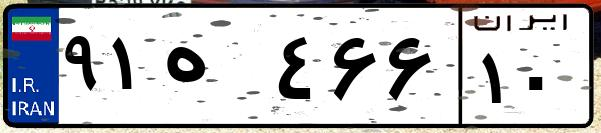0: (525, 38, 570, 115)
1: (475, 38, 525, 113), (110, 28, 158, 98)
4: (270, 28, 330, 110)
6: (385, 28, 445, 110), (330, 28, 385, 110)
9: (57, 26, 110, 100)
ه: (158, 20, 270, 120)
